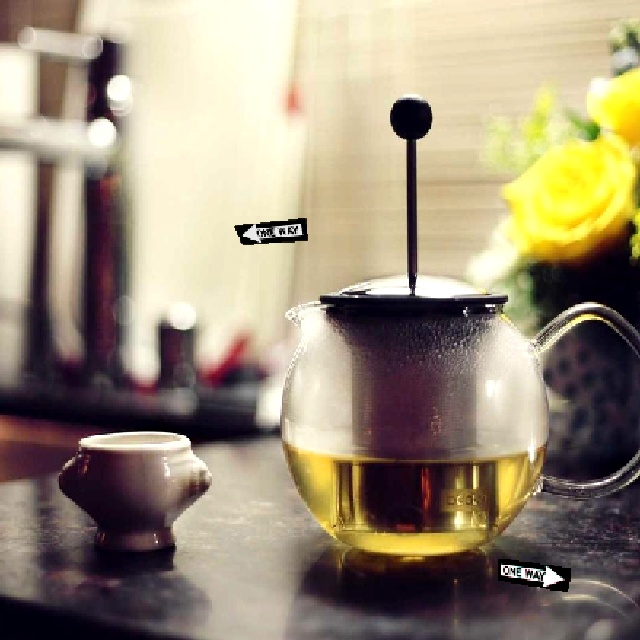ONE_WAY_ left: (232, 216, 307, 244)
ONE_WAY_ right: (495, 556, 570, 591)
